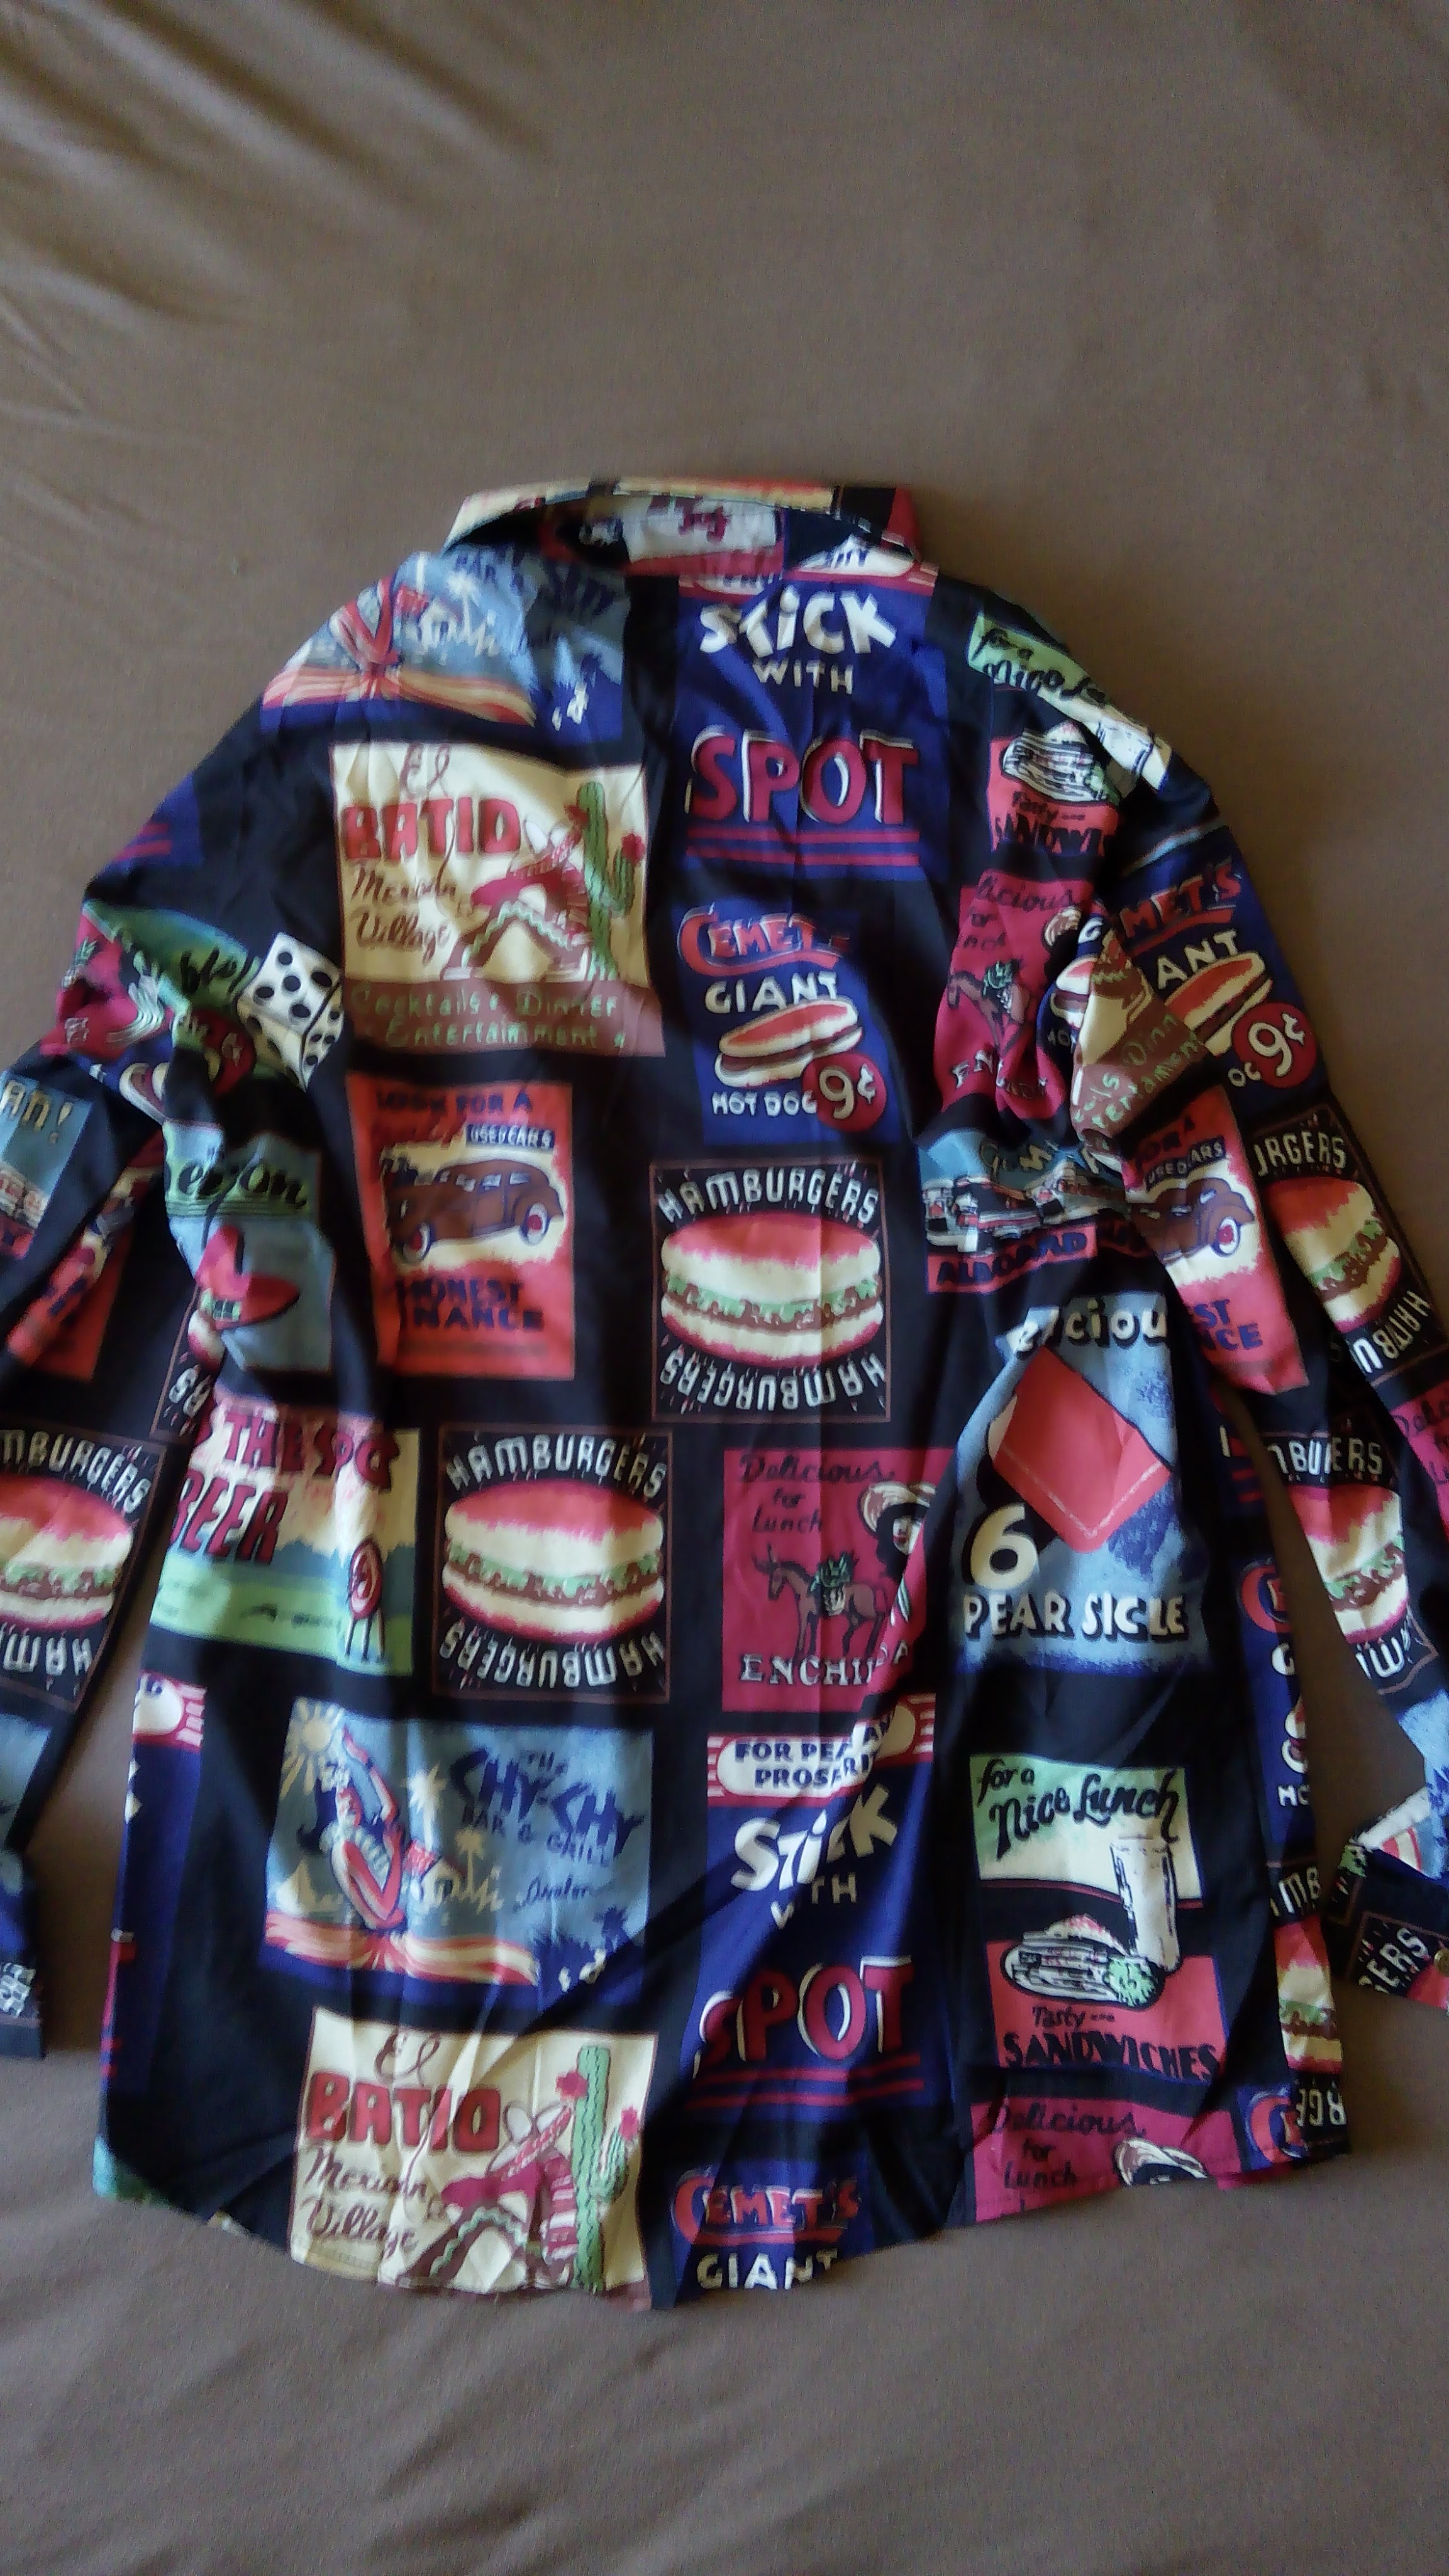shirts: (57, 479, 1396, 2272)
